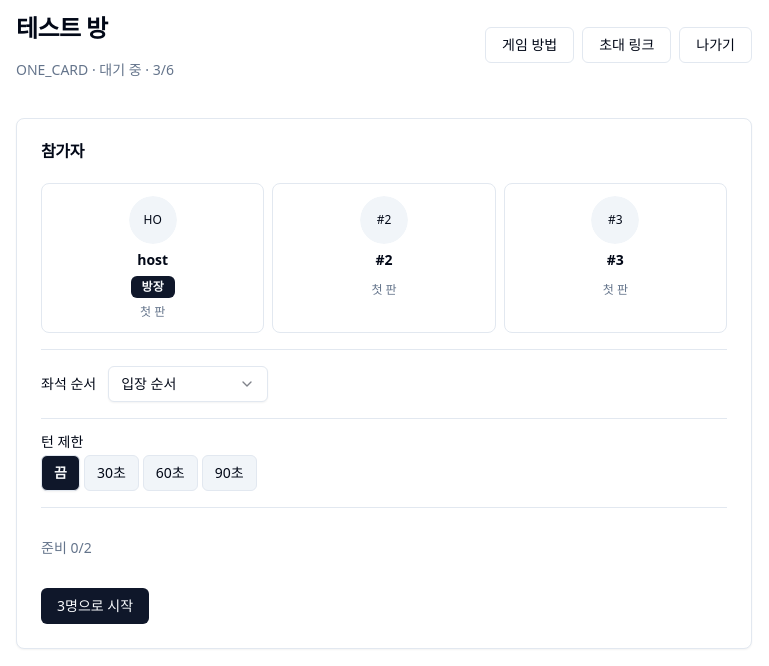
it: RoomPage — 방장 시작 (D-143) › 요청 중에는 버튼이 잠긴다
Click the button "3명으로 시작": (95, 606) [41, 588, 149, 624]
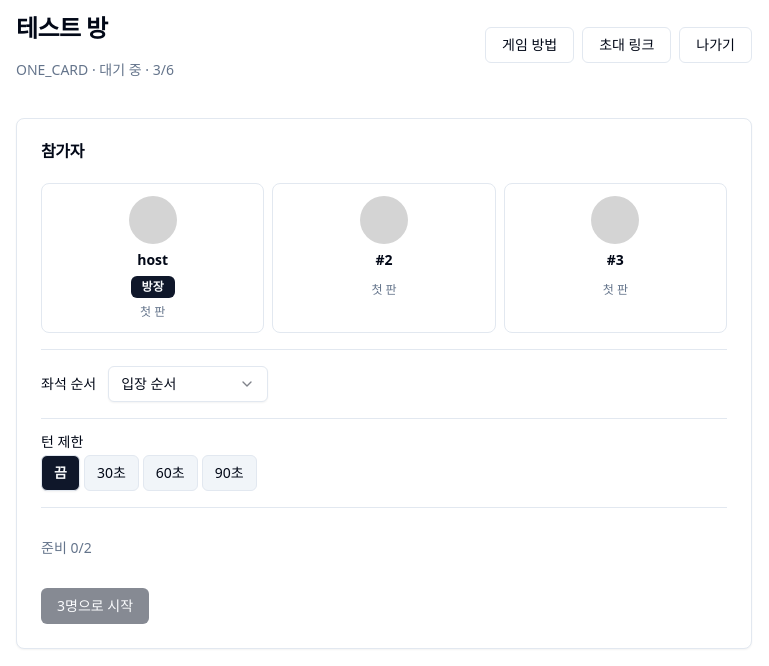
expect the button "3명으로 시작" is disabled: met, box [41, 588, 149, 624]
